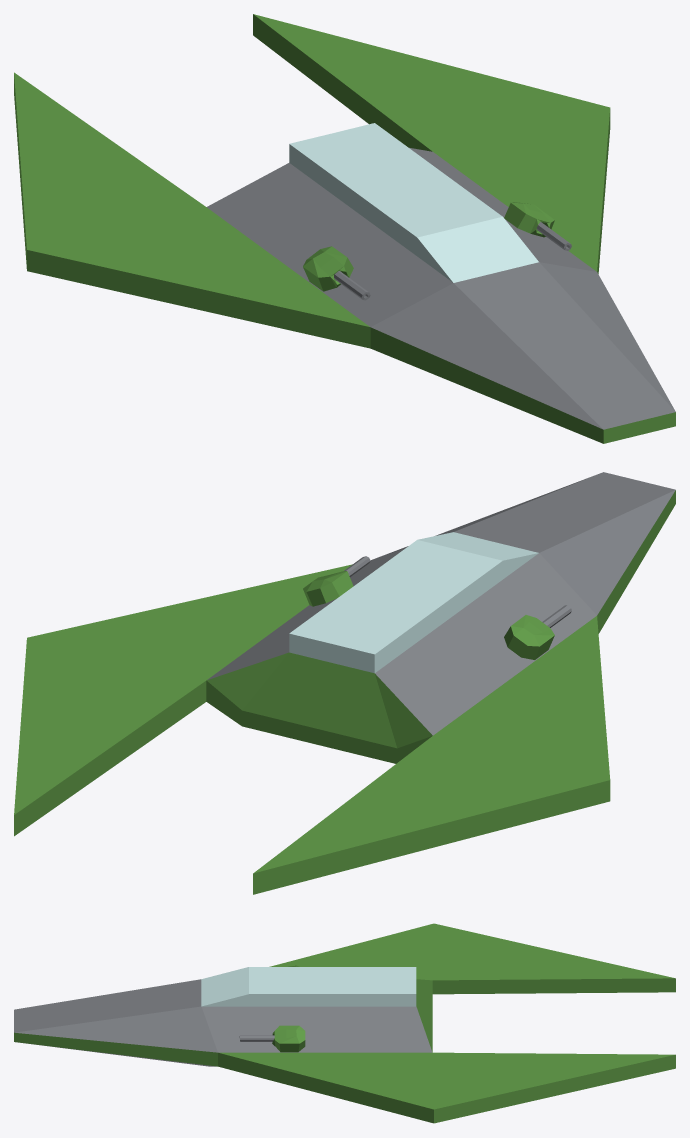
Rendered from drone_7_3.gltf.
3 views of the same model, one above another, from view 1: azimuth 30°, elevation 25°; view 2: azimuth 150°, elevation 25°; view 3: azimuth 270°, elevation 25° (orthographic). The views are drawn at different scales.
Visible parts, largest first — view 1: 7.003; view 2: 7.003; view 3: 7.003.
Part boxes in pixels (x1=…): 7.003: x1=14, y1=14, x2=675, y2=443; 7.003: x1=14, y1=472, x2=675, y2=894; 7.003: x1=14, y1=923, x2=675, y2=1123.
Bounding box in the file's own units: 4.91 × 0.7424 × 7.38.
Materials: 1 (1 with a texture image).
